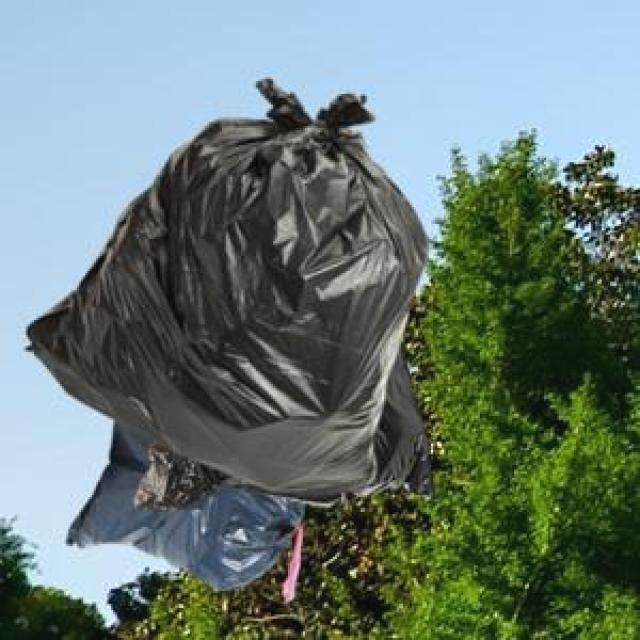Trashbag: (18, 74, 437, 503), (63, 482, 313, 593)
